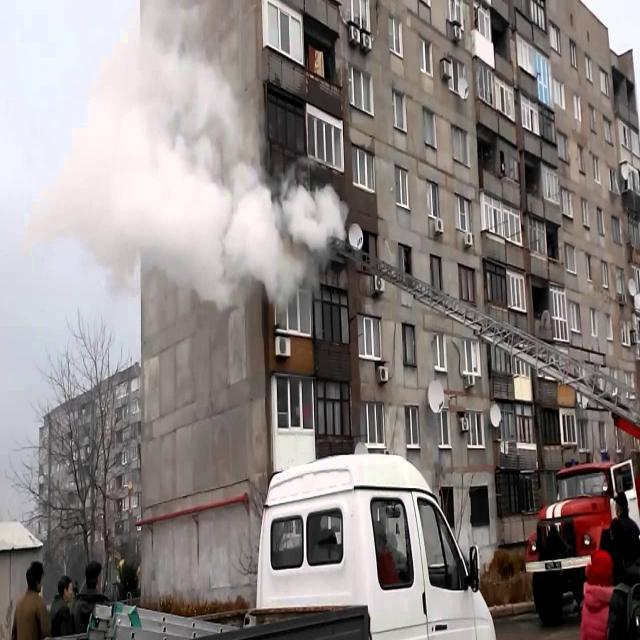Smoke: (30, 3, 348, 312)
